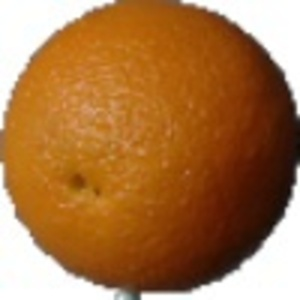laranja: (2, 1, 298, 297)
